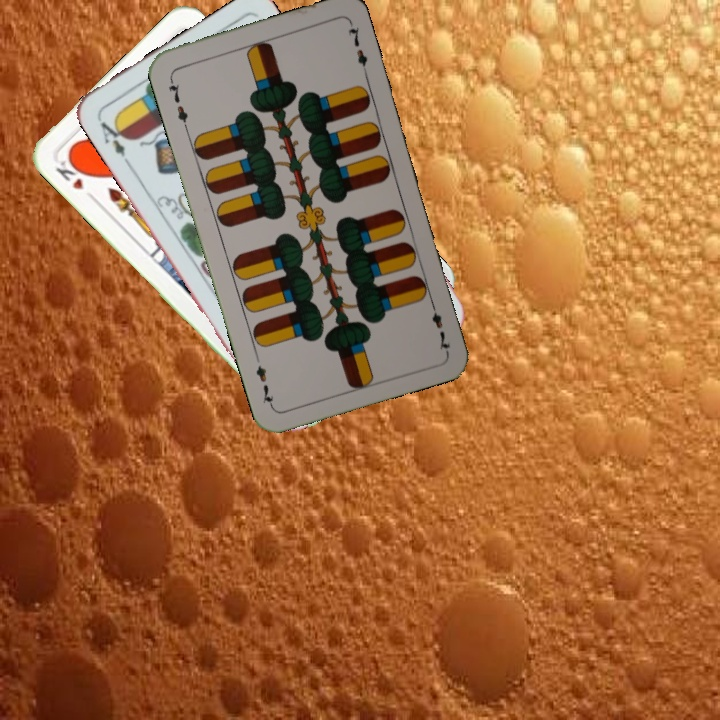E7: (164, 73, 191, 131), (426, 296, 453, 354)
EA: (94, 114, 132, 166)
HK: (51, 153, 90, 193)
